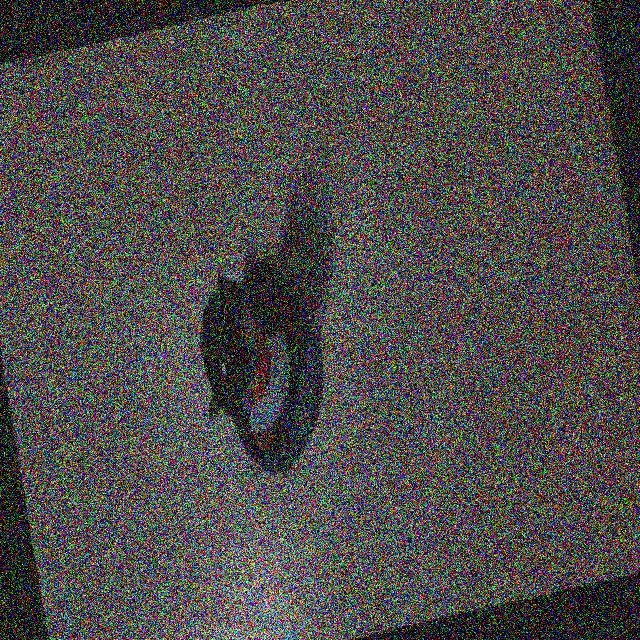Penguin: (175, 229, 352, 518)
